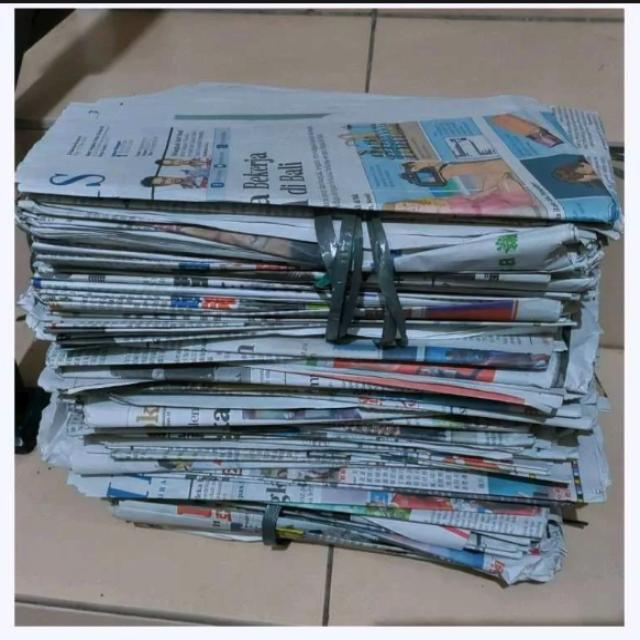Koran: (15, 80, 622, 586), (398, 158, 450, 188)
